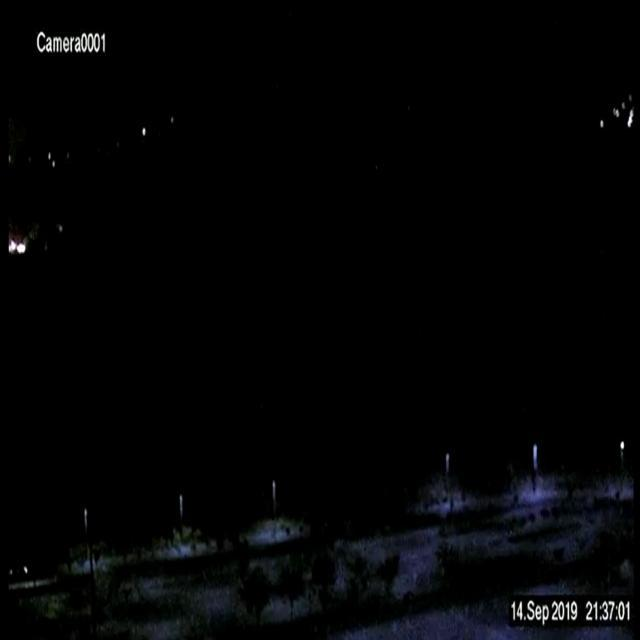Fire: (8, 235, 28, 254)
